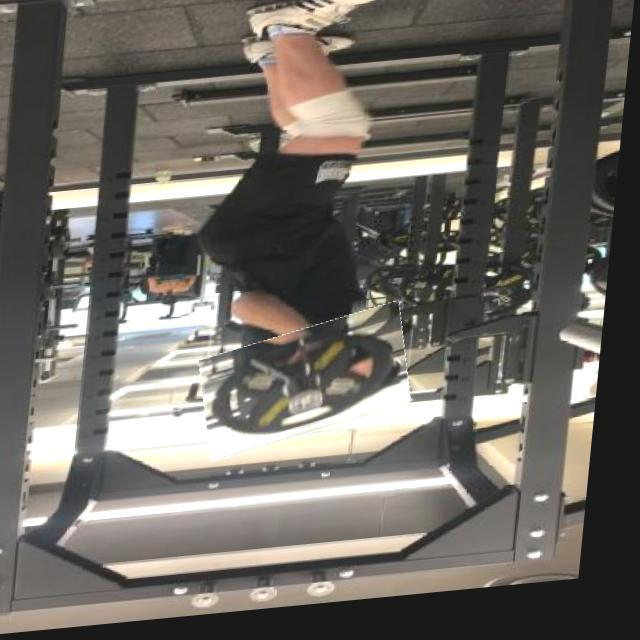barbell: (205, 319, 423, 460)
